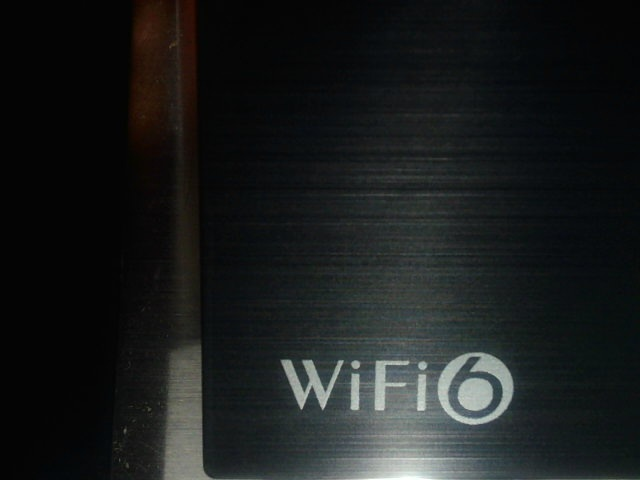AK_ZTEWIFI6Black: (269, 337, 522, 431)
